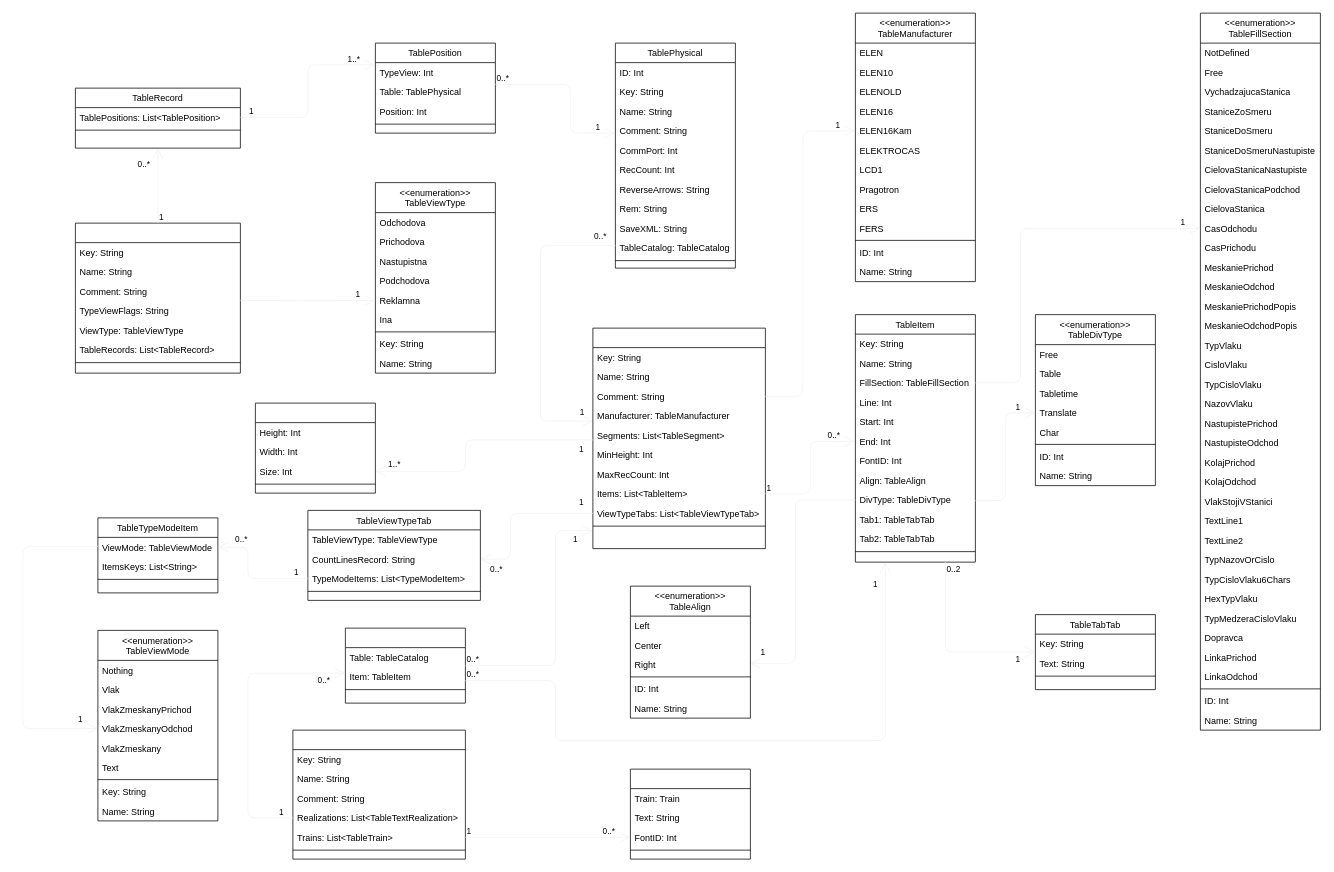
This 1334x872 diagram has some shape labels left out. The shapes that lost their labels are listed below. From the top down, each one's box as (x1, y1, x2, y2) in pixels, then its label:
(75, 222, 240, 373): TableLogical
(255, 402, 375, 493): TableSegment
(592, 327, 765, 549): TableCatalog
(345, 627, 465, 703): TableTextRealization
(292, 729, 465, 859): TableText
(630, 768, 750, 859): TableTrain
